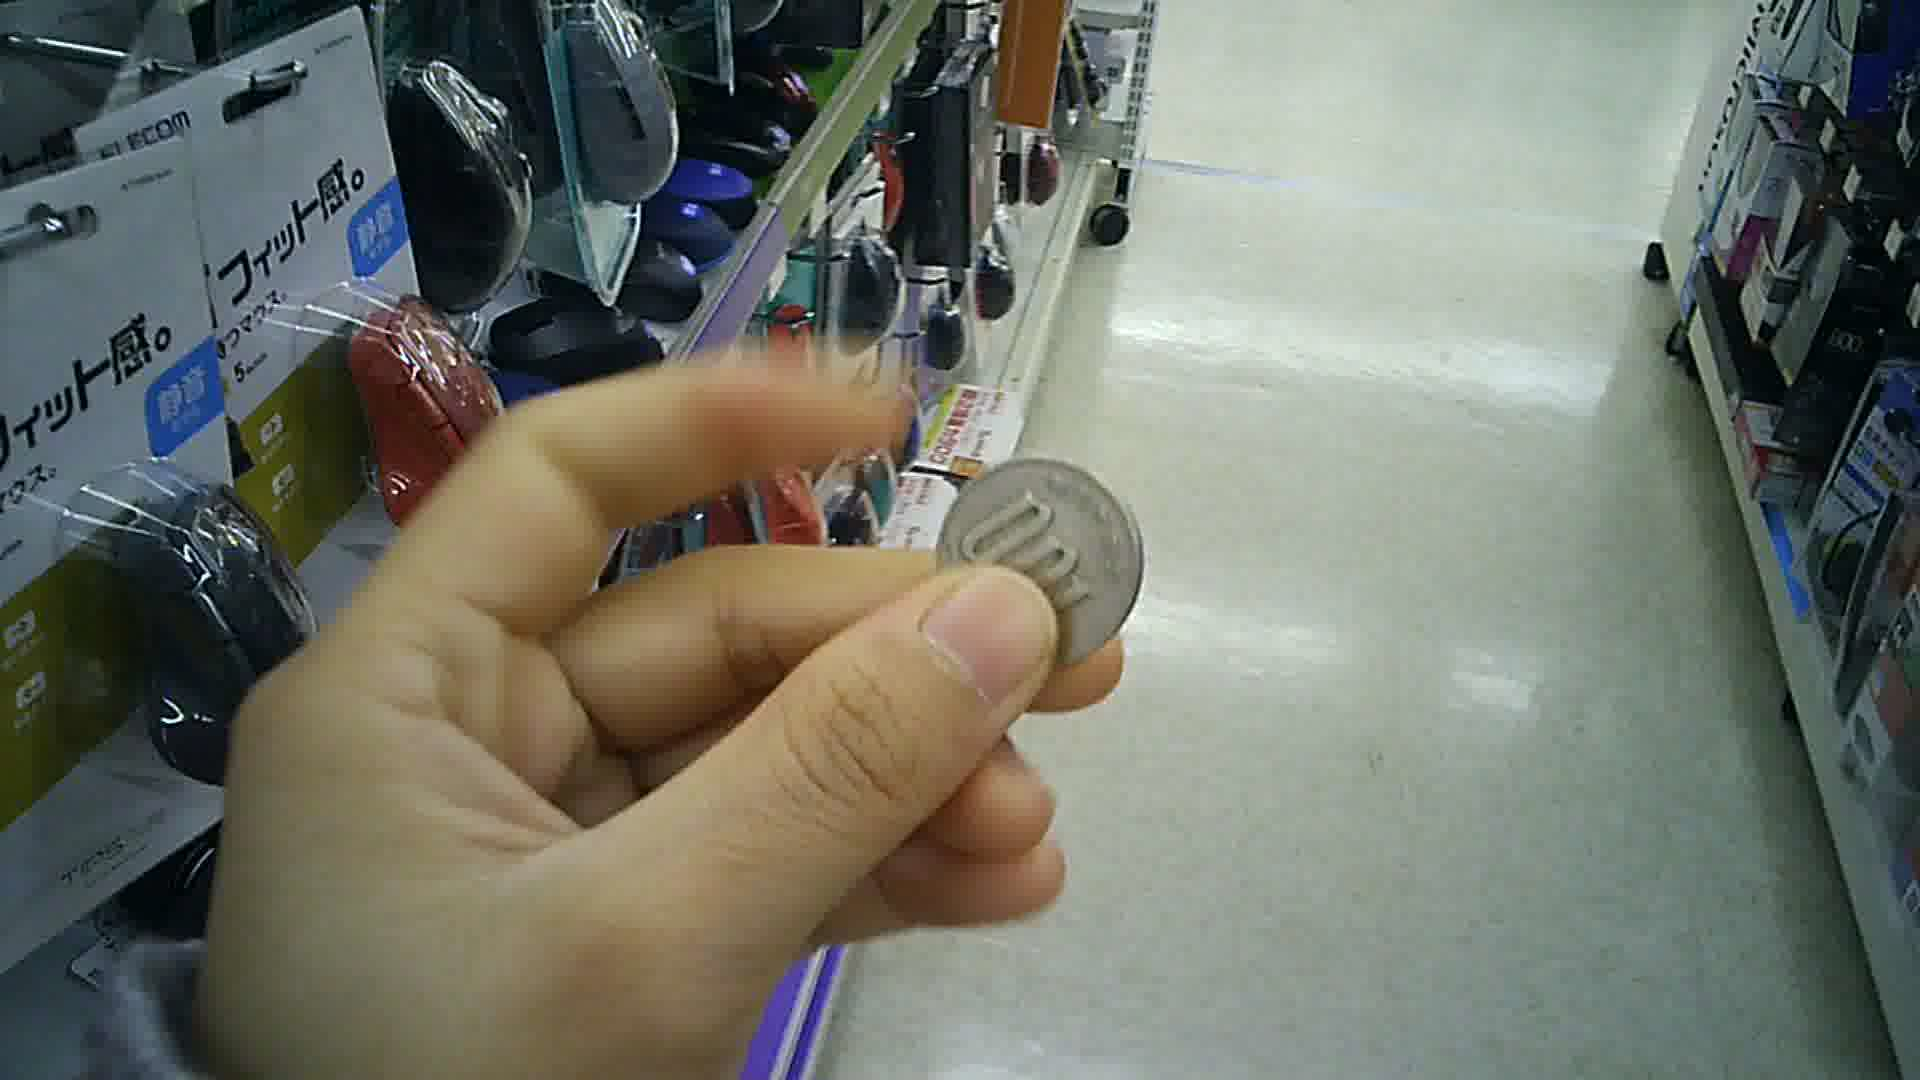100 Yen: (935, 456, 1156, 669)
